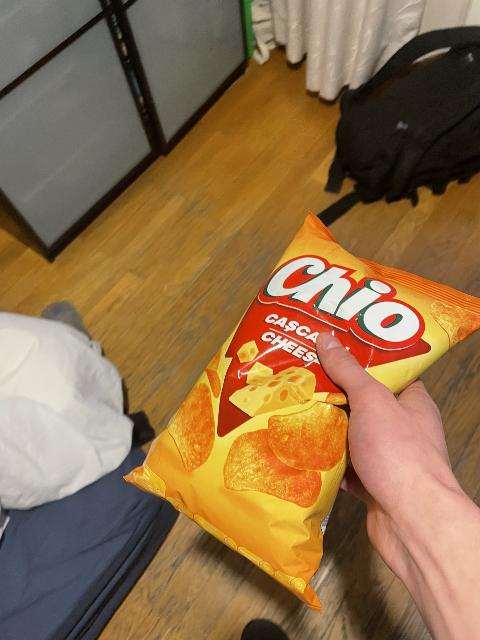Chio Cascaval 125g: (120, 210, 480, 608)
